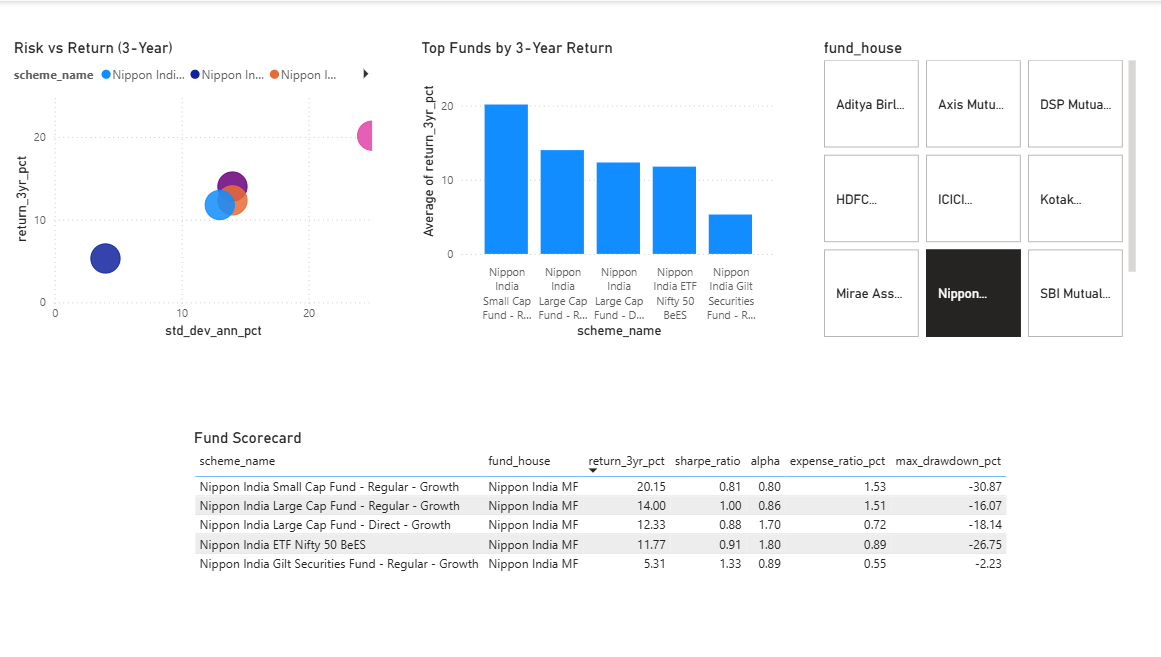

The dashboard page shown, as its layout file describes it:
{"tool":"powerbi","page":{"name":"Fund Performance","canvas":[1280,720],"ordinal":1},"visuals":[{"type":"scatterChart","title":"Risk vs Return (3-Year)","fields":{"X":["07_scheme_performance.std_dev_ann_pct"],"Y":["07_scheme_performance.return_3yr_pct"],"Series":["07_scheme_performance.scheme_name"],"Size":["CountNonNull(07_scheme_performance.aum_crore)"]},"box":[13.7,41.2,410.3,333.4],"z":0},{"type":"tableEx","title":"Fund Scorecard","fields":{"Values":["07_scheme_performance.scheme_name","07_scheme_performance.fund_house","07_scheme_performance.return_3yr_pct","07_scheme_performance.sharpe_ratio","07_scheme_performance.alpha","07_scheme_performance.expense_ratio_pct","07_scheme_performance.max_drawdown_pct"]},"box":[211.3,469.3,972.9,251.1],"z":1000},{"type":"clusteredColumnChart","title":"Top Funds by 3-Year Return","fields":{"Category":["07_scheme_performance.scheme_name"],"Y":["Avg(07_scheme_performance.return_3yr_pct)"]},"box":[461.1,41.2,399.3,333.4],"z":2000},{"type":"advancedSlicerVisual","fields":{"Values":["07_scheme_performance.fund_house"]},"box":[902.9,41.2,352.7,333.4],"z":3000}]}

Visuals, with their boxes in screenshot pixels (x1, y1, x2, y2), scaled from the page's 1280x720 canvas onto the 1161x657 screenshot:
"Risk vs Return (3-Year)" scatterChart: (12,38,385,342)
"Fund Scorecard" tableEx: (192,428,1074,656)
"Top Funds by 3-Year Return" clusteredColumnChart: (418,38,780,342)
advancedSlicerVisual - 07_scheme_performance.fund_house: (819,38,1139,342)
